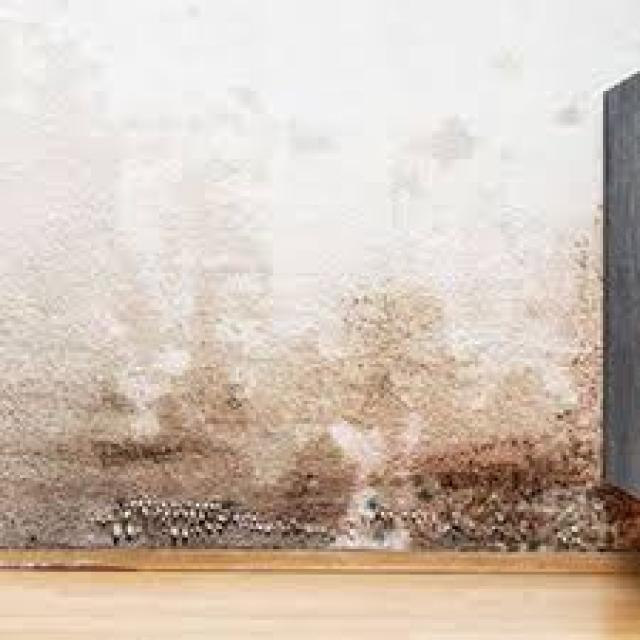dampness: (0, 160, 633, 550)
